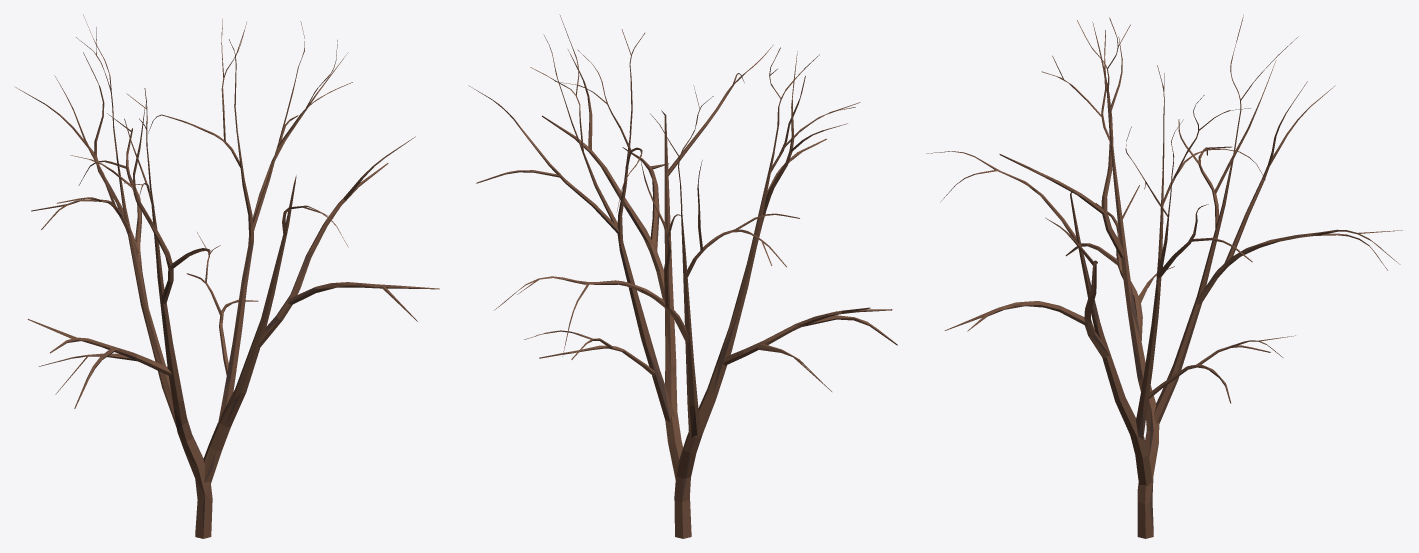
File: mesh_tree_oak_02_dead.fbx
3 views of the same model, side by side, from view 1: azimuth 30°, elevation 25°; view 2: azimuth 150°, elevation 25°; view 3: azimuth 270°, elevation 25° (orthographic). The views are drawn at different scales.
Visible parts, largest first — view 1: mesh_tree_oak_02_dead_LOD0; view 2: mesh_tree_oak_02_dead_LOD0; view 3: mesh_tree_oak_02_dead_LOD0.
Part boxes in pixels (<box>): mesh_tree_oak_02_dead_LOD0: <box>14,14,439,538</box>; mesh_tree_oak_02_dead_LOD0: <box>468,14,897,538</box>; mesh_tree_oak_02_dead_LOD0: <box>926,14,1402,538</box>.
Size of what is drawn, in the model's own units: 7.58 by 9.92 by 8.81.
